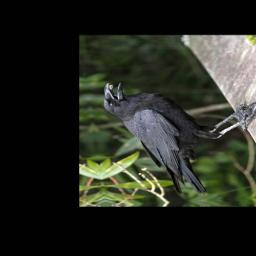Crow: (99, 75, 256, 201)
